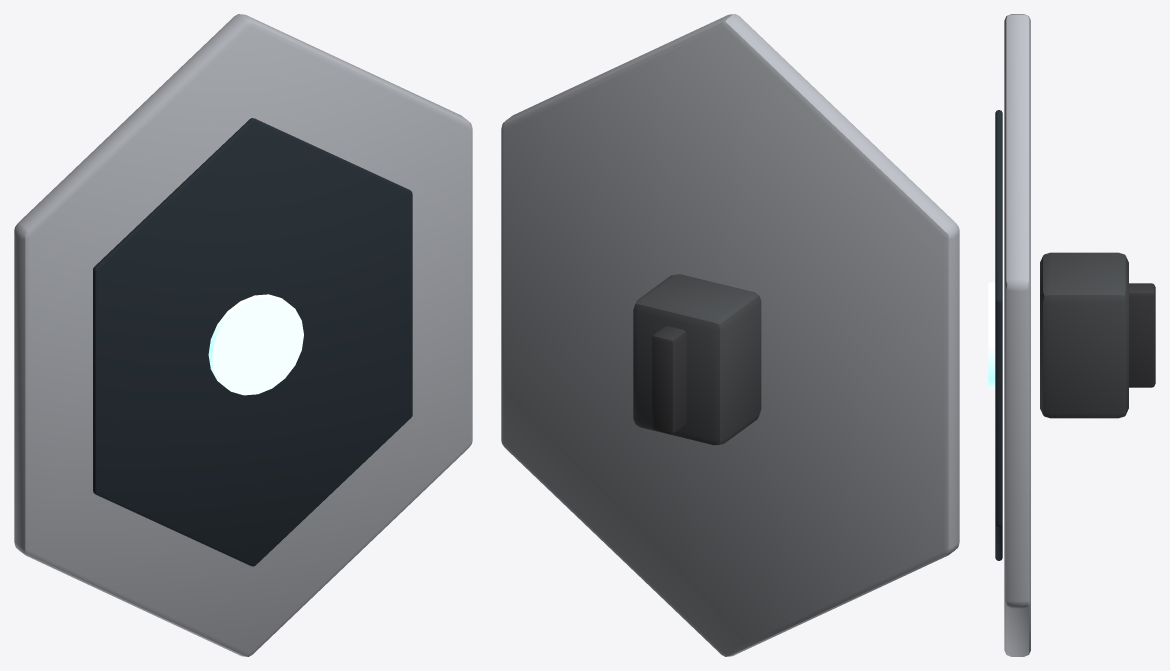
File: ionmirror.glb
3 views of the same model, side by side, from view 1: azimuth 30°, elevation 25°; view 2: azimuth 150°, elevation 25°; view 3: azimuth 270°, elevation 25° (orthographic).
Visible parts, largest first — view 1: Body; view 2: Body; view 3: Body.
Boxes of the visible parts, <box> form: Body: <box>14,14,472,656</box>; Body: <box>501,14,959,656</box>; Body: <box>988,14,1155,656</box>.
Size of the model in its own units: 0.5889 by 0.795 by 0.188.
